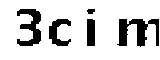3: (13, 5, 44, 49)
c: (47, 17, 75, 50)
i: (84, 5, 101, 48)
m: (113, 12, 160, 52)
